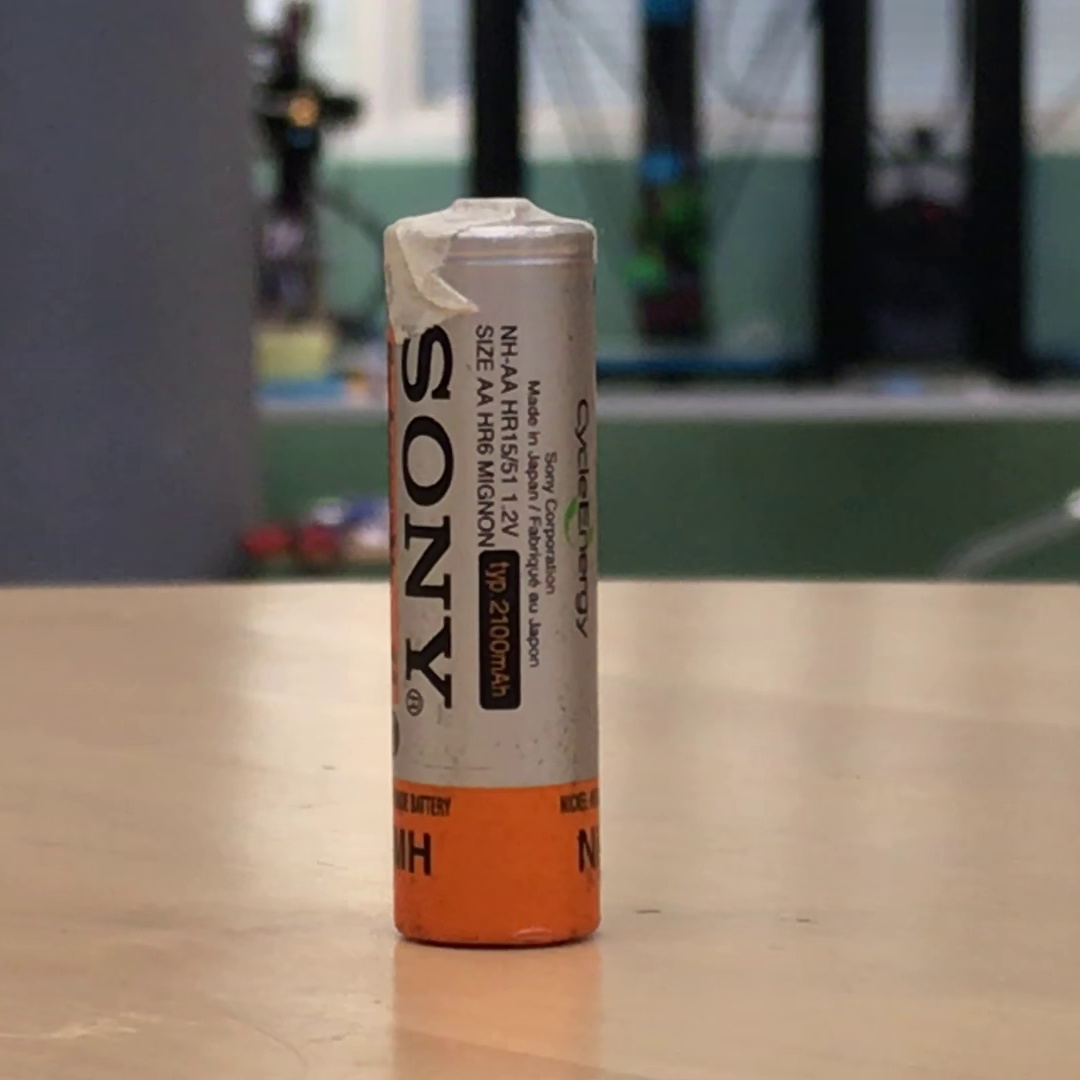keyword: (491, 484, 529, 547)
